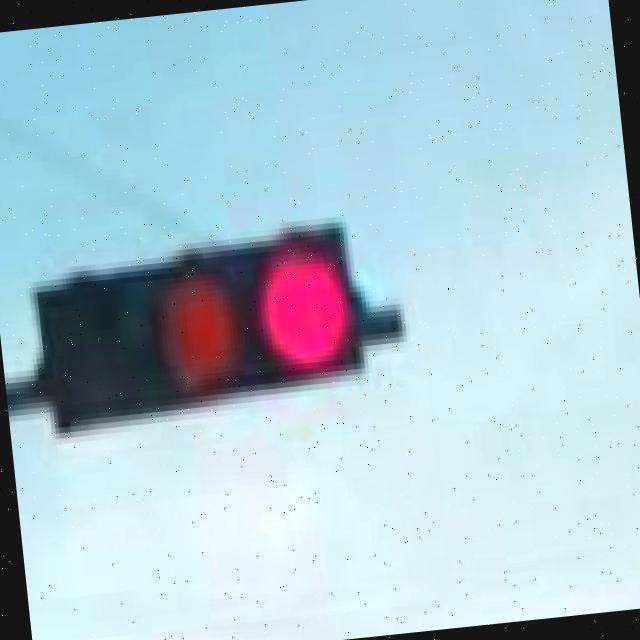Zolte swiatlo: (33, 226, 365, 434)
